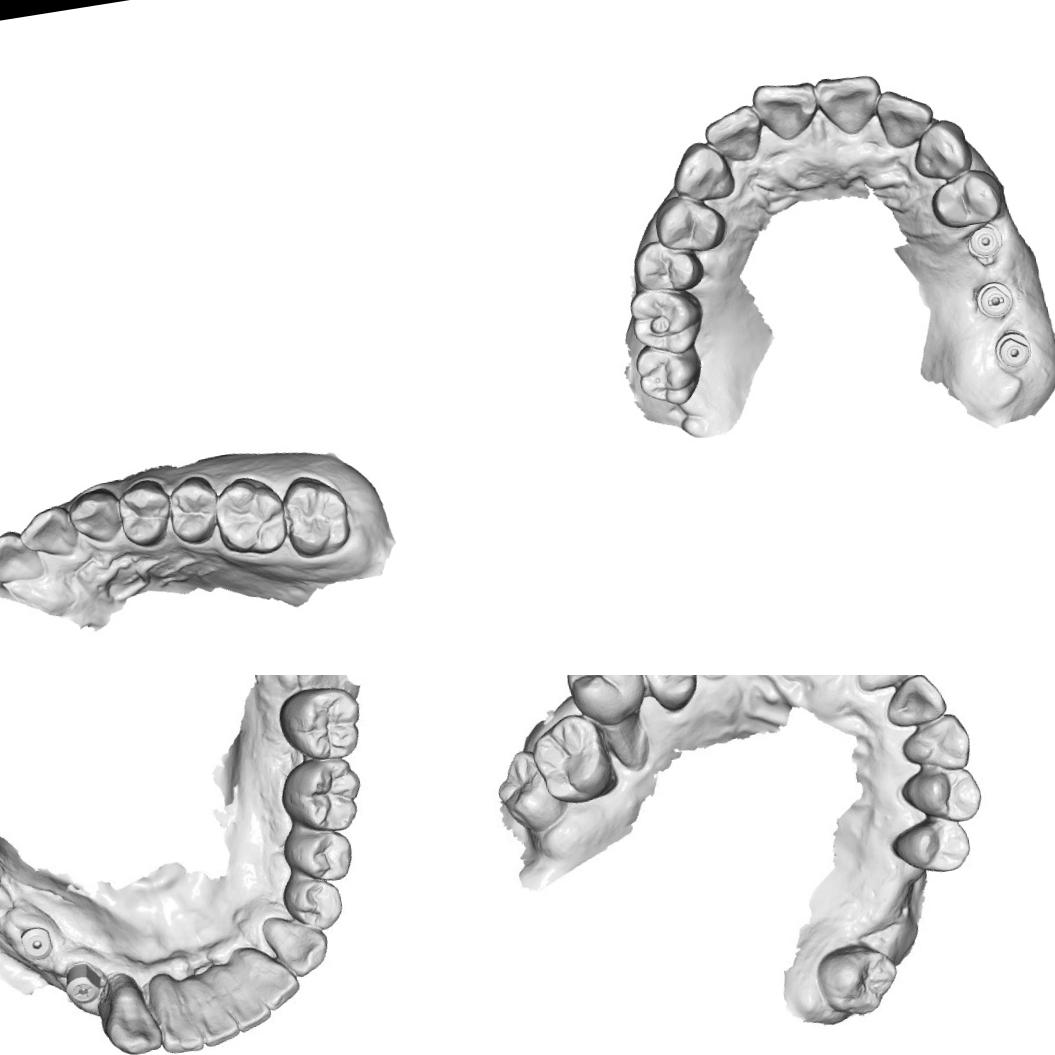canine: (897, 710, 976, 778), (906, 112, 978, 186), (666, 136, 740, 206), (96, 978, 161, 1055), (63, 484, 126, 550), (273, 910, 332, 980)
implant: (990, 325, 1036, 374), (963, 217, 1006, 263), (16, 921, 57, 961)
implant_minus: (970, 274, 1020, 324)
implant_plus: (60, 964, 102, 1006)
incisor: (749, 75, 824, 148), (812, 68, 887, 141), (207, 958, 272, 1036), (14, 500, 82, 570), (873, 82, 940, 153), (234, 942, 300, 1014), (699, 101, 766, 168), (150, 970, 205, 1051), (184, 974, 238, 1045), (884, 677, 951, 727), (0, 524, 46, 591)
molar: (272, 677, 372, 768), (276, 752, 373, 842), (810, 934, 903, 1024), (209, 470, 293, 562), (276, 468, 356, 562), (624, 278, 712, 362), (534, 717, 614, 798), (629, 336, 710, 412), (497, 752, 561, 827), (563, 675, 647, 727)
premolar: (896, 764, 987, 830), (648, 188, 731, 260), (924, 165, 1008, 234), (627, 232, 709, 299), (890, 817, 974, 880), (162, 471, 226, 548), (284, 820, 356, 888), (112, 476, 176, 550), (281, 869, 346, 932), (633, 675, 702, 714)
